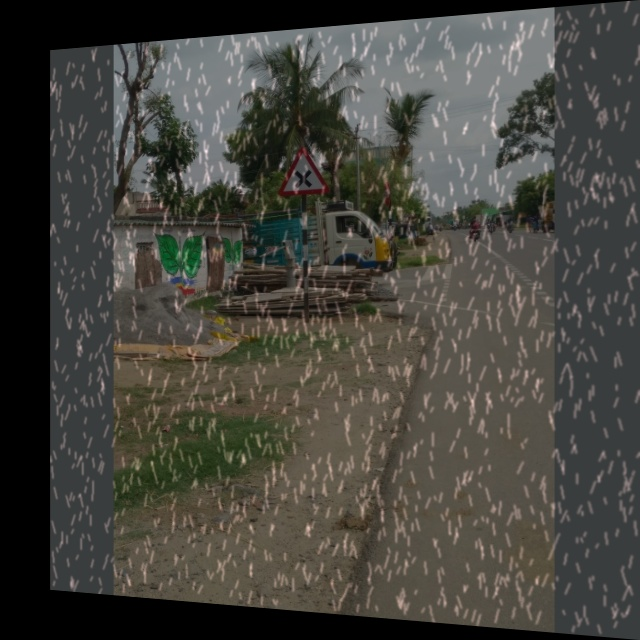Cross_Road: (275, 142, 331, 198)
